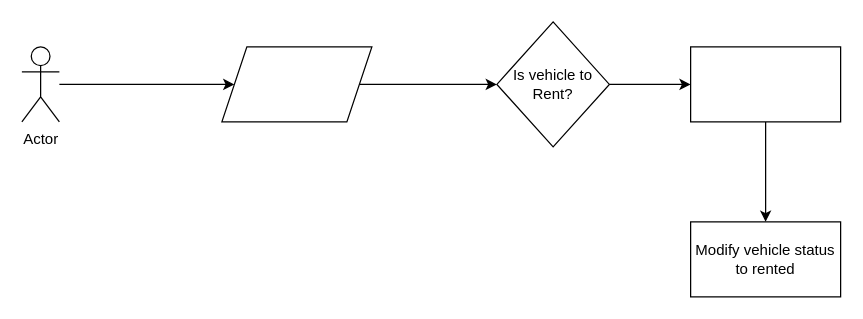
This 863x319 diagram has some shape labels left out. The centre of each missing label's shape, as x and y in pixels:
Assign vehicle to user: pixel 765 84
Rent vehicle: pixel 296 84
